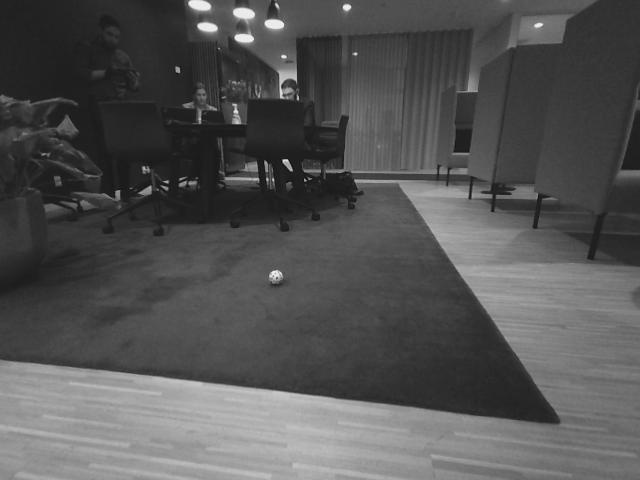dogtoy: (262, 266, 290, 290)
